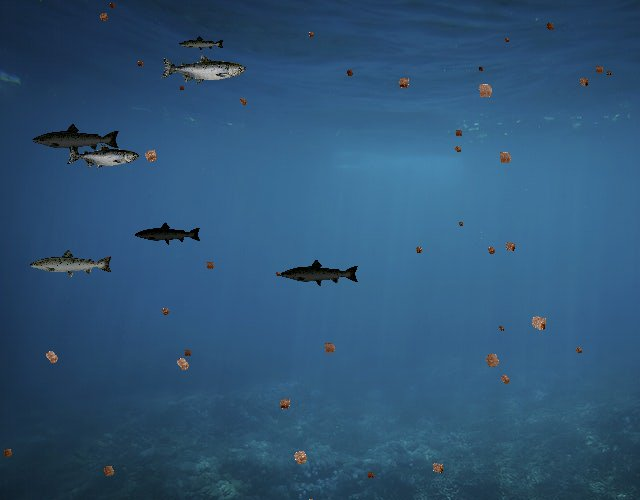Fish: (32, 123, 122, 155), (28, 248, 114, 279), (160, 54, 246, 85), (279, 259, 360, 288), (66, 144, 139, 170), (134, 221, 202, 246), (178, 35, 225, 52)
Pellet: (471, 77, 499, 105), (493, 145, 517, 169), (495, 369, 515, 389), (363, 468, 378, 482), (305, 28, 318, 41), (456, 218, 466, 228)
